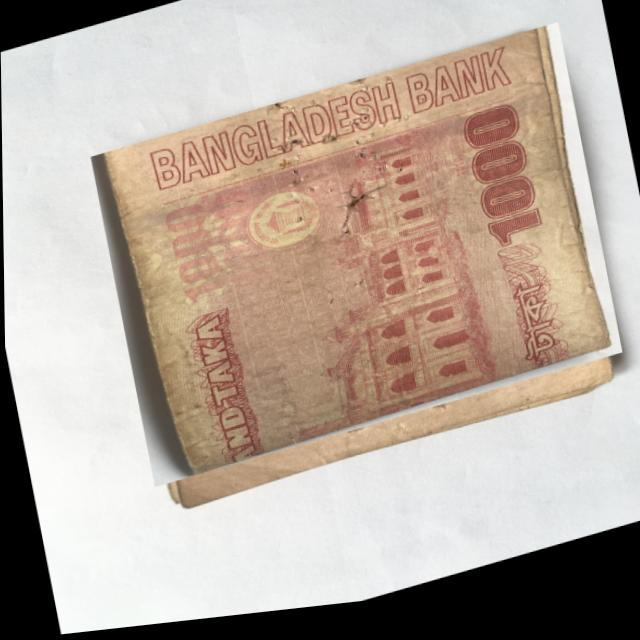Taka: (89, 30, 622, 495)
